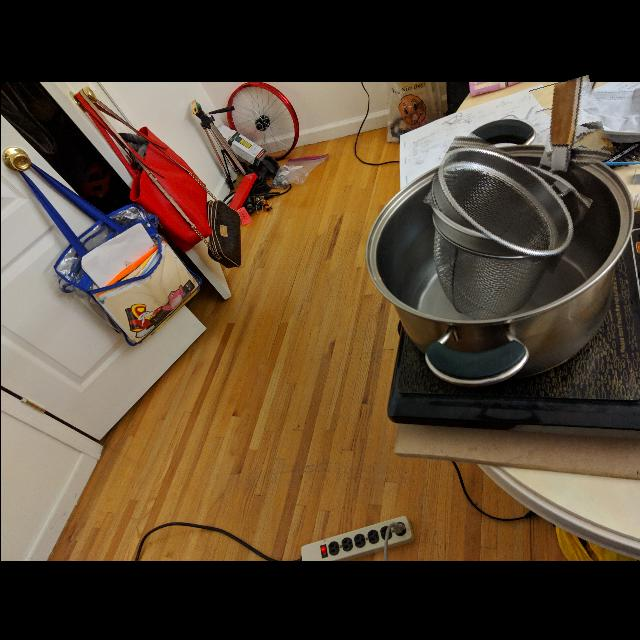Handle: (534, 76, 606, 172)
Strainer: (425, 142, 587, 258)
